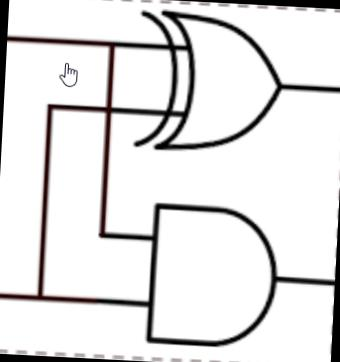and: (134, 190, 287, 356)
xor: (126, 4, 294, 162)
